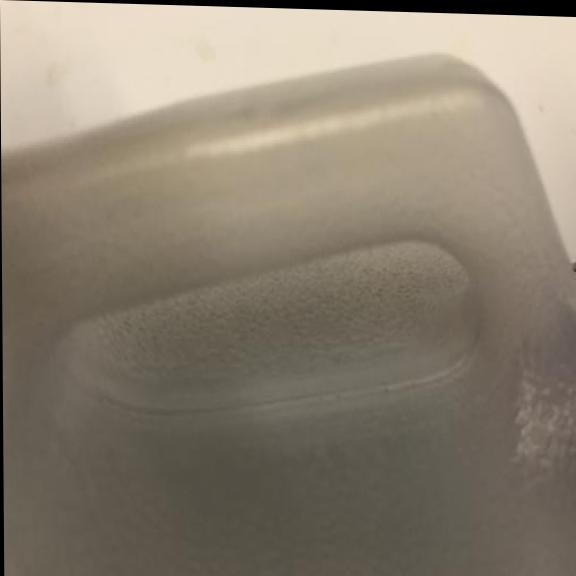Plastik: (0, 36, 576, 576)
